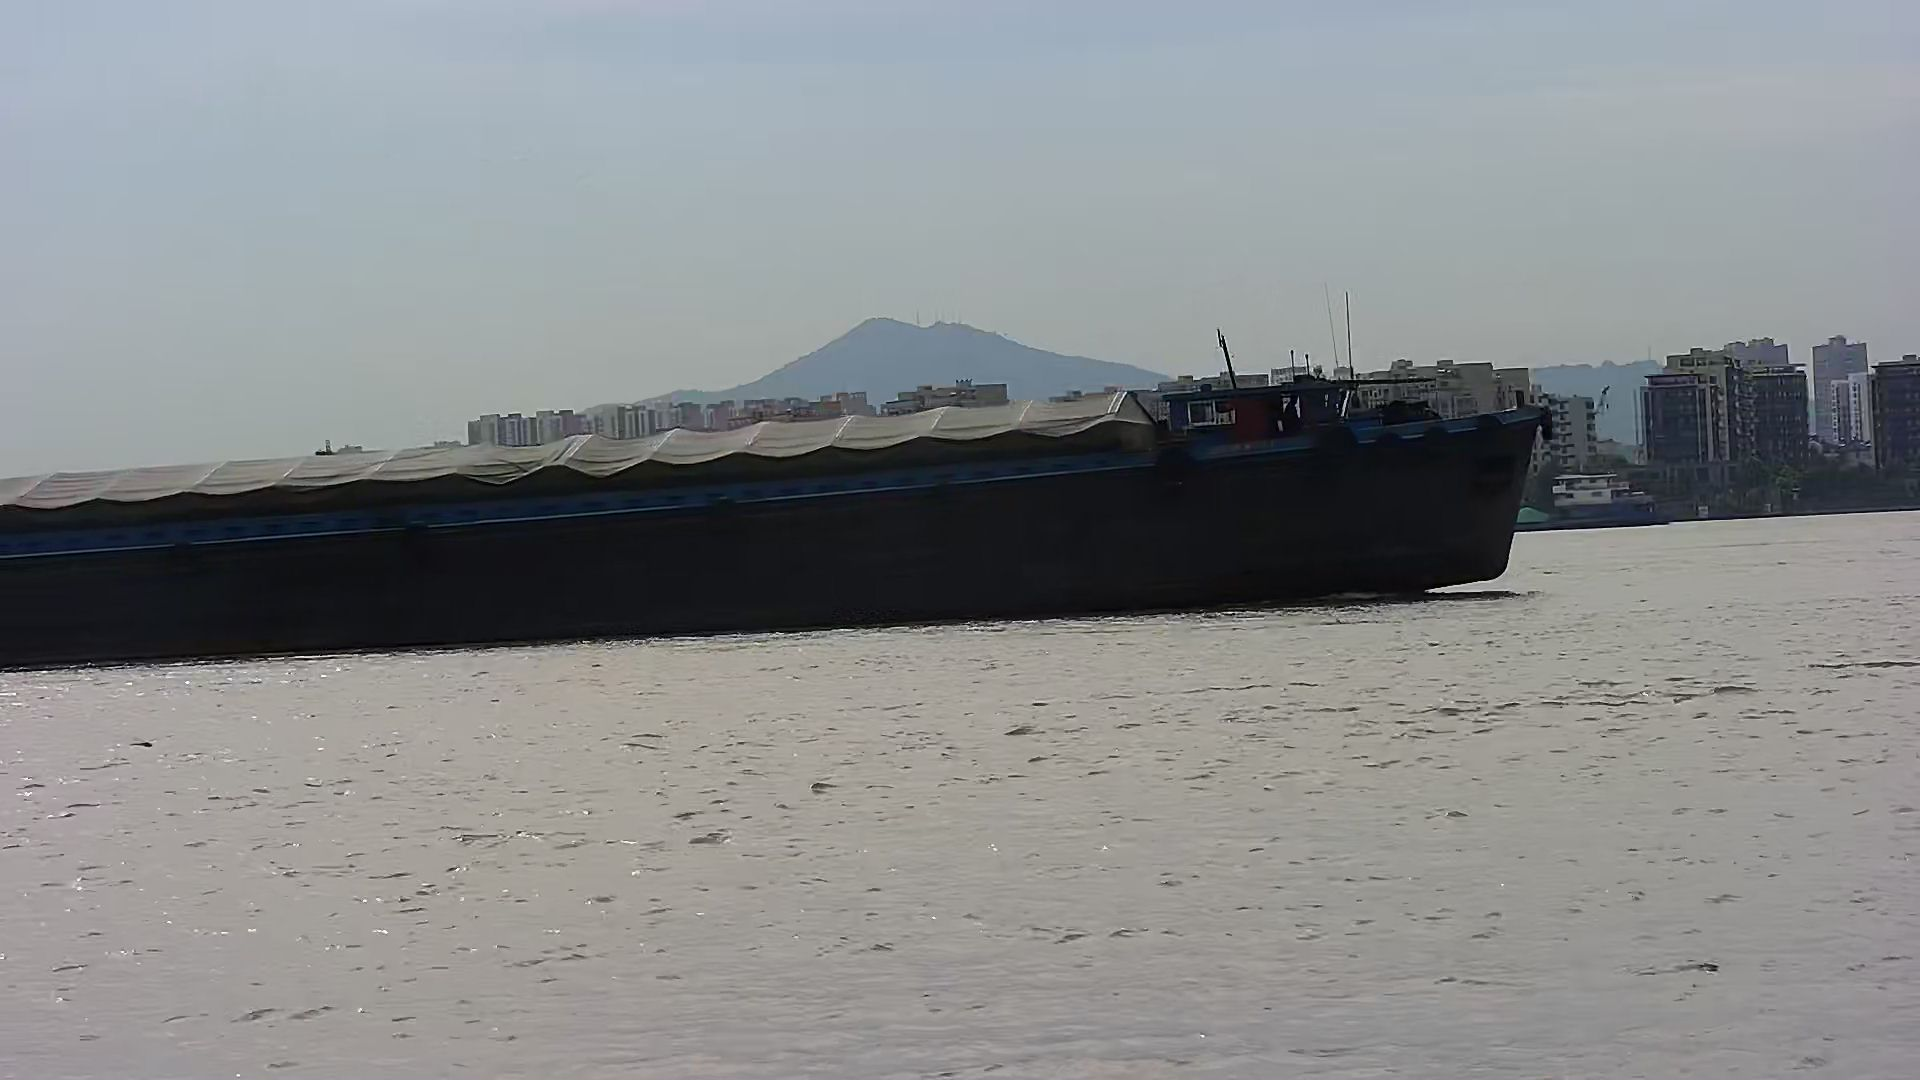ship: (1, 361, 1534, 671), (1516, 471, 1665, 534)
